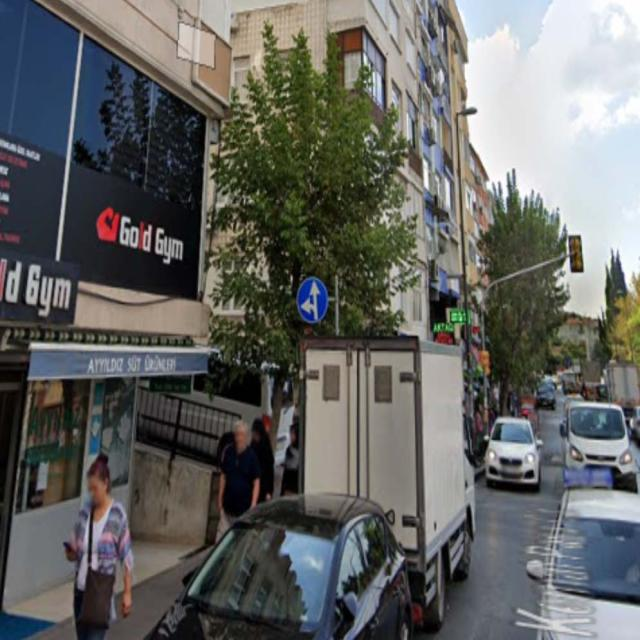ilerisol: (296, 276, 330, 324)
